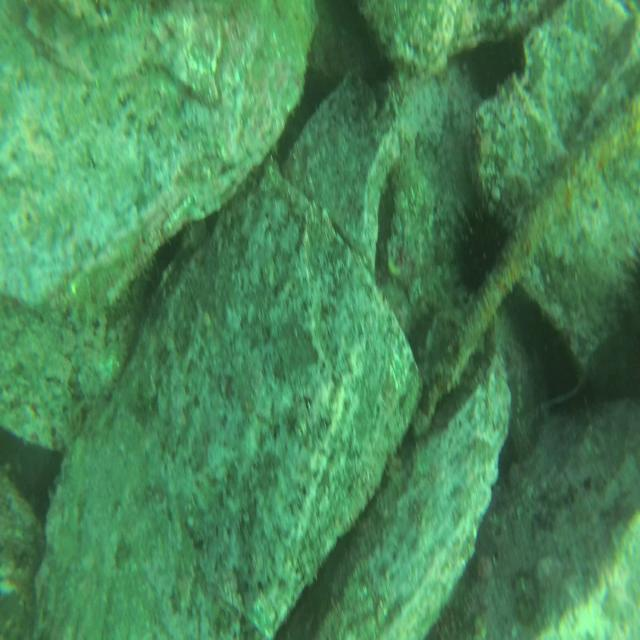echinus: (453, 198, 515, 293), (468, 36, 526, 102)
